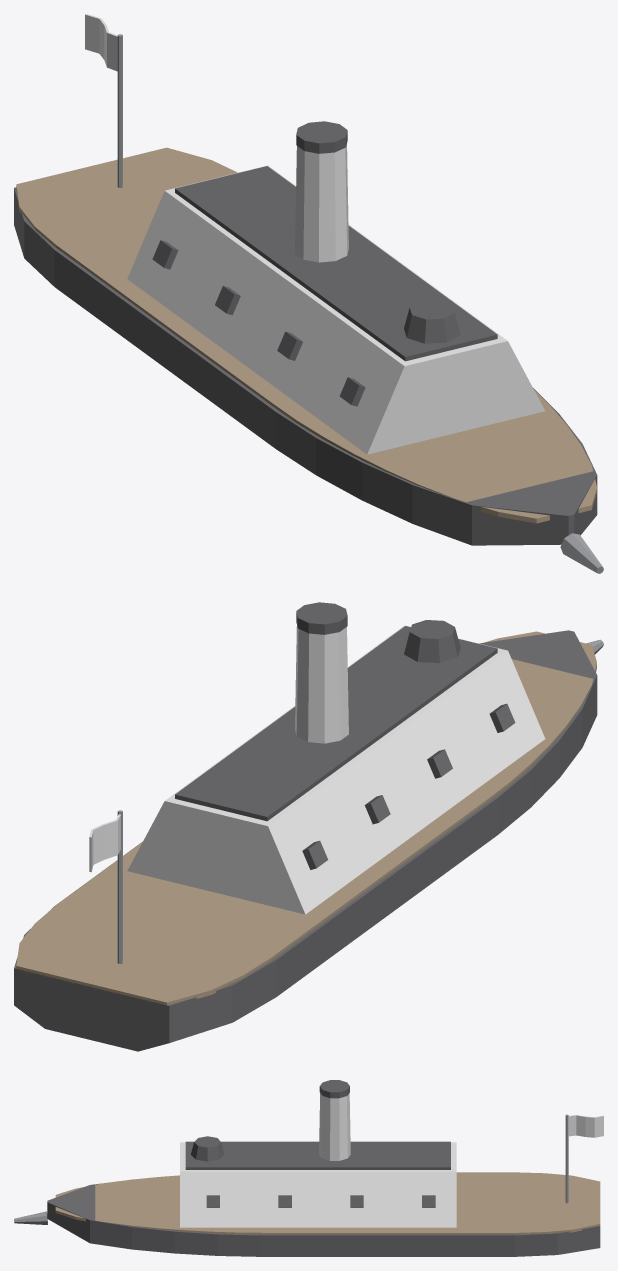
File: civ_unit_ironclad.glb
3 renders of one model, top to bottom at view 1: azimuth 30°, elevation 25°; view 2: azimuth 150°, elevation 25°; view 3: azimuth 270°, elevation 25°, orthographic. The views are drawn at different scales.
Visible parts, largest first — view 1: civ_unit_ironclad; view 2: civ_unit_ironclad; view 3: civ_unit_ironclad.
Boxes of the visible parts, <box> form: civ_unit_ironclad: <box>14,14,603,573</box>; civ_unit_ironclad: <box>14,602,603,1051</box>; civ_unit_ironclad: <box>14,1080,603,1256</box>.
Size of the model in its own units: 2.4 by 2.67 by 9.6.
